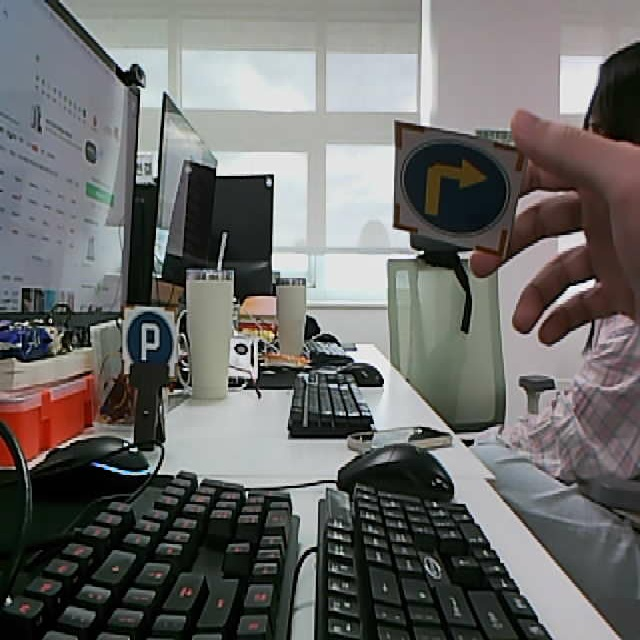right: (388, 117, 525, 262)
